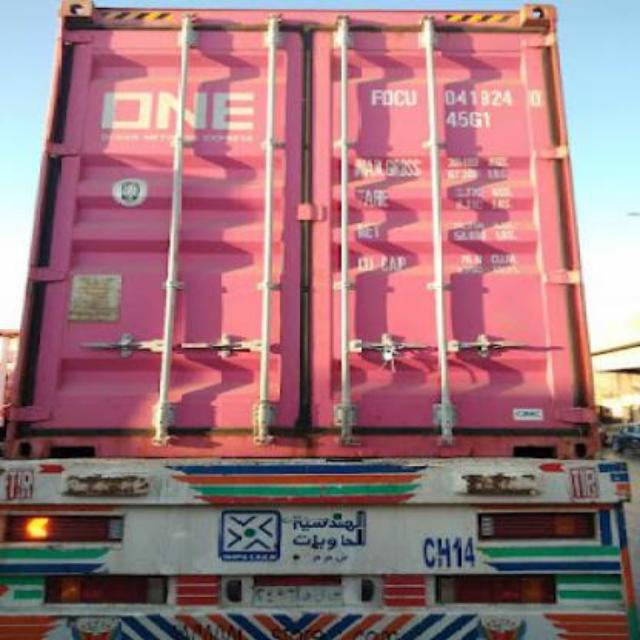0: (528, 88, 544, 108), (444, 87, 456, 105)
1: (470, 87, 480, 107)
2: (491, 88, 504, 108)
4: (502, 88, 512, 108), (458, 89, 468, 107)
9: (480, 88, 490, 108)
C: (394, 88, 406, 108)
D: (382, 89, 394, 107)
F: (370, 88, 382, 108)
U: (406, 89, 418, 107)
